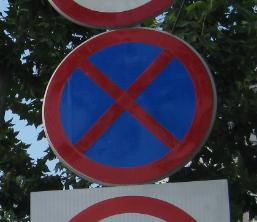No Parking: (43, 31, 218, 187)
